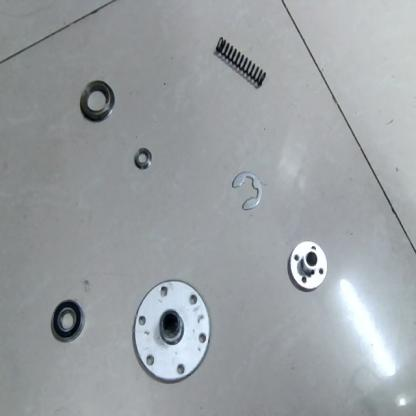FOD: (2, 2, 415, 412), (133, 275, 211, 387), (210, 31, 270, 88), (49, 298, 87, 348), (74, 79, 115, 125), (288, 243, 327, 291), (229, 173, 264, 212), (130, 148, 153, 173)
